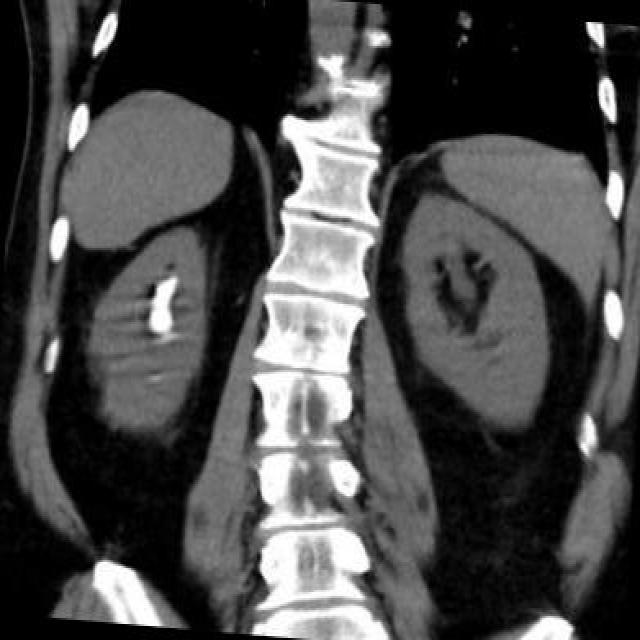Tas_Var: (147, 272, 177, 310), (146, 307, 172, 339)
